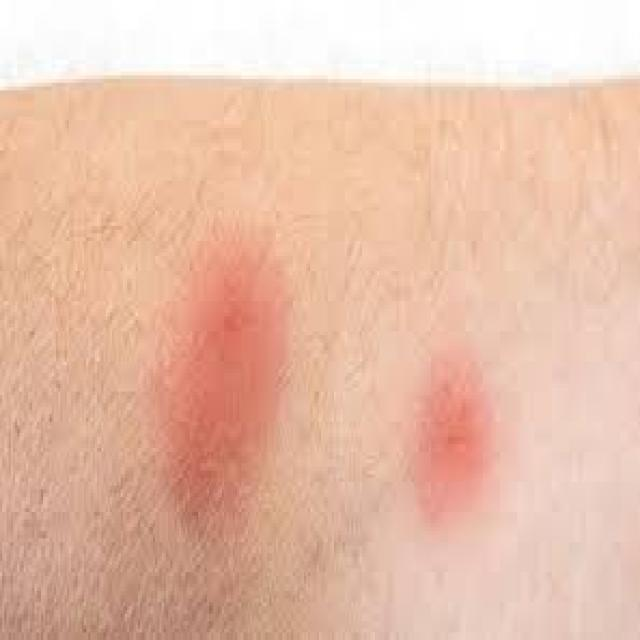kan emici bocekler: (151, 241, 278, 513), (411, 369, 484, 523)
